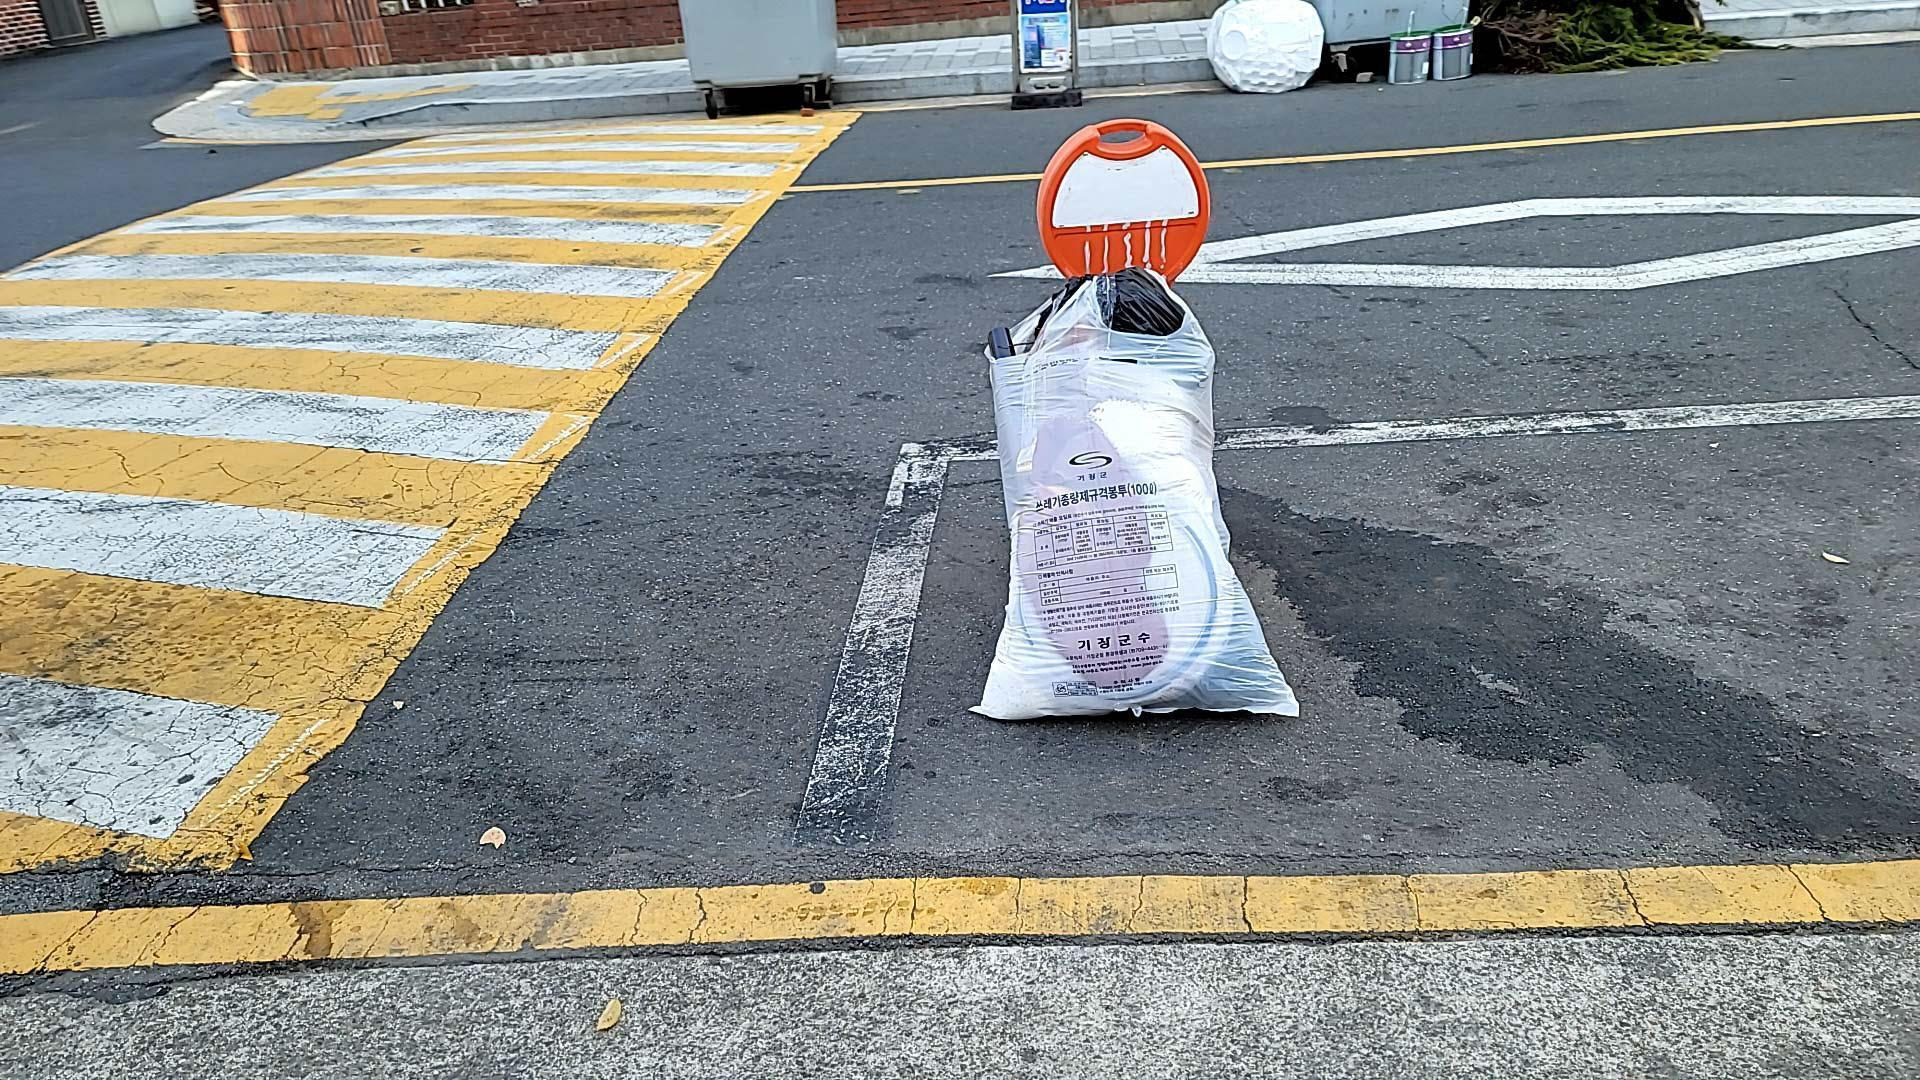white_bag: (949, 252, 1320, 742)
